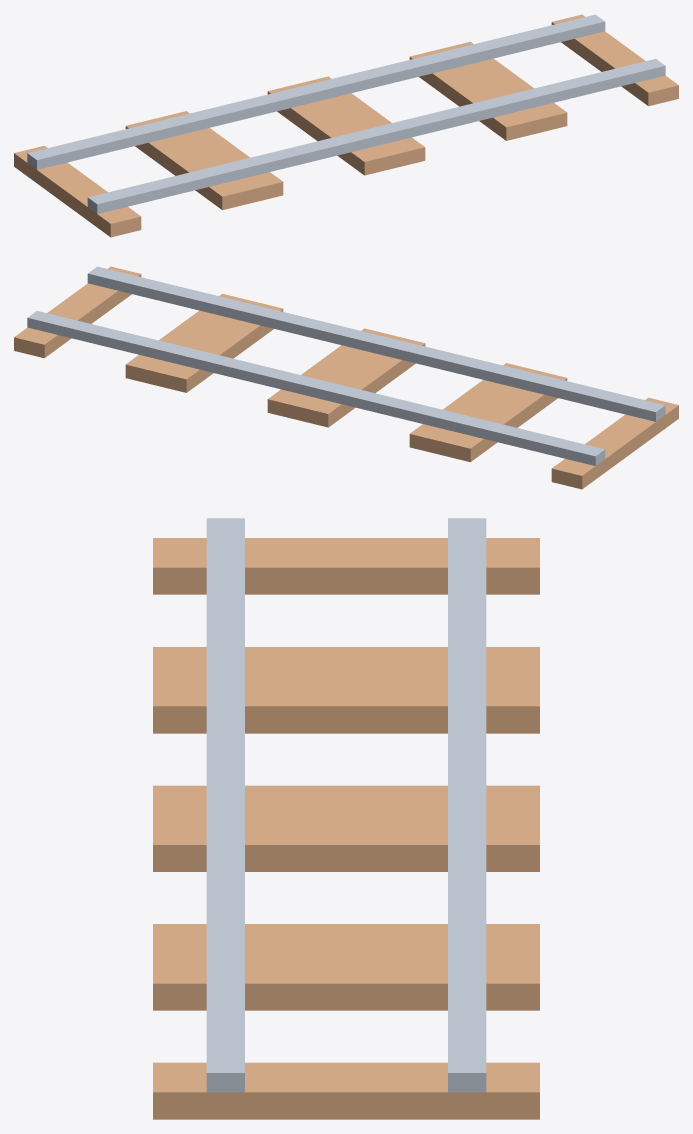
Rendered from trackStraight.dae.
3 renders of one model, top to bottom at view 1: azimuth 30°, elevation 25°; view 2: azimuth 150°, elevation 25°; view 3: azimuth 270°, elevation 25°, orthographic. The views are drawn at different scales.
Visible parts, largest first — view 1: trackStraight.002, trackStraight.001; view 2: trackStraight.002, trackStraight.001; view 3: trackStraight.001, trackStraight.002.
Boxes of the visible parts, x1,y1,x2,y2 form: trackStraight.002: (14, 84, 394, 237); trackStraight.001: (298, 14, 678, 167); trackStraight.002: (298, 336, 678, 489); trackStraight.001: (14, 266, 394, 419); trackStraight.001: (153, 795, 539, 1119); trackStraight.002: (153, 518, 539, 815).
Size of the model in its own units: 1 by 0.2953 by 0.0392.
